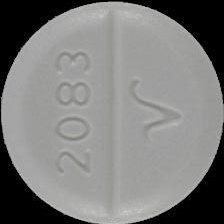0603-2115: (0, 0, 224, 224)
